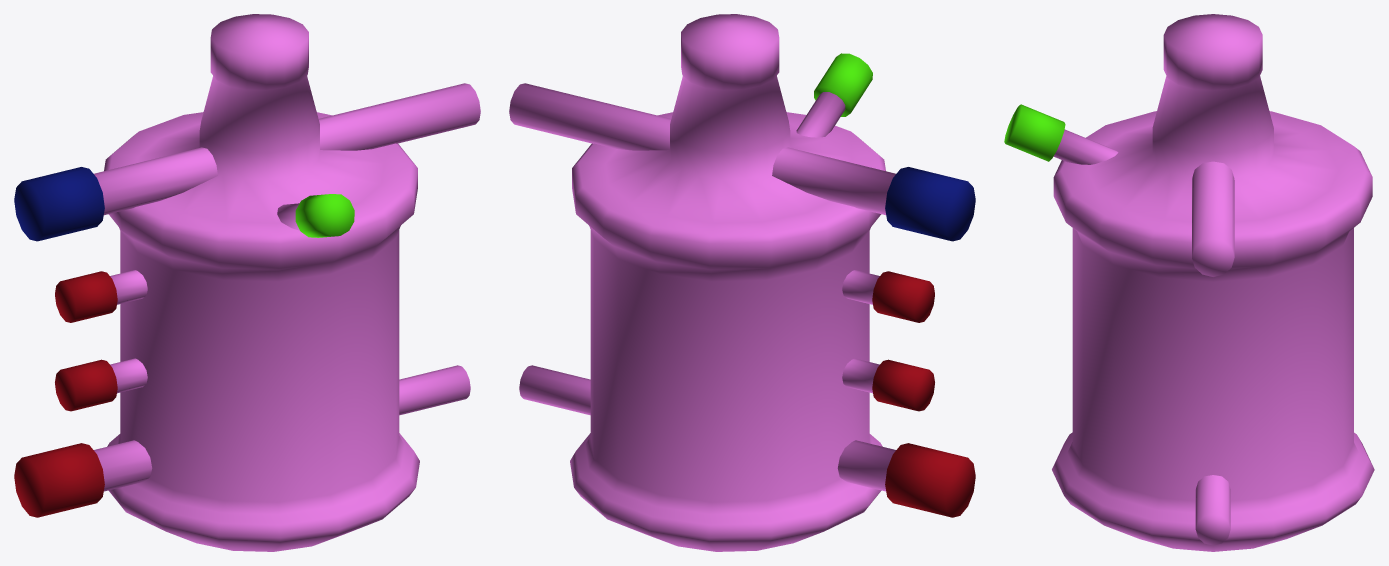
The model's file is generic.fbx.
3 renders of one model, left to right at view 1: azimuth 30°, elevation 25°; view 2: azimuth 150°, elevation 25°; view 3: azimuth 270°, elevation 25°, orthographic.
Visible parts, largest first — view 1: Oxygenator; view 2: Oxygenator; view 3: Oxygenator.
Boxes of the visible parts, left/top/right/bottom form: Oxygenator: left=14, top=14, right=480, bottom=551; Oxygenator: left=509, top=14, right=975, bottom=551; Oxygenator: left=1004, top=14, right=1374, bottom=551.
Size of the model in its own units: 19.52 by 20.49 by 14.23.
